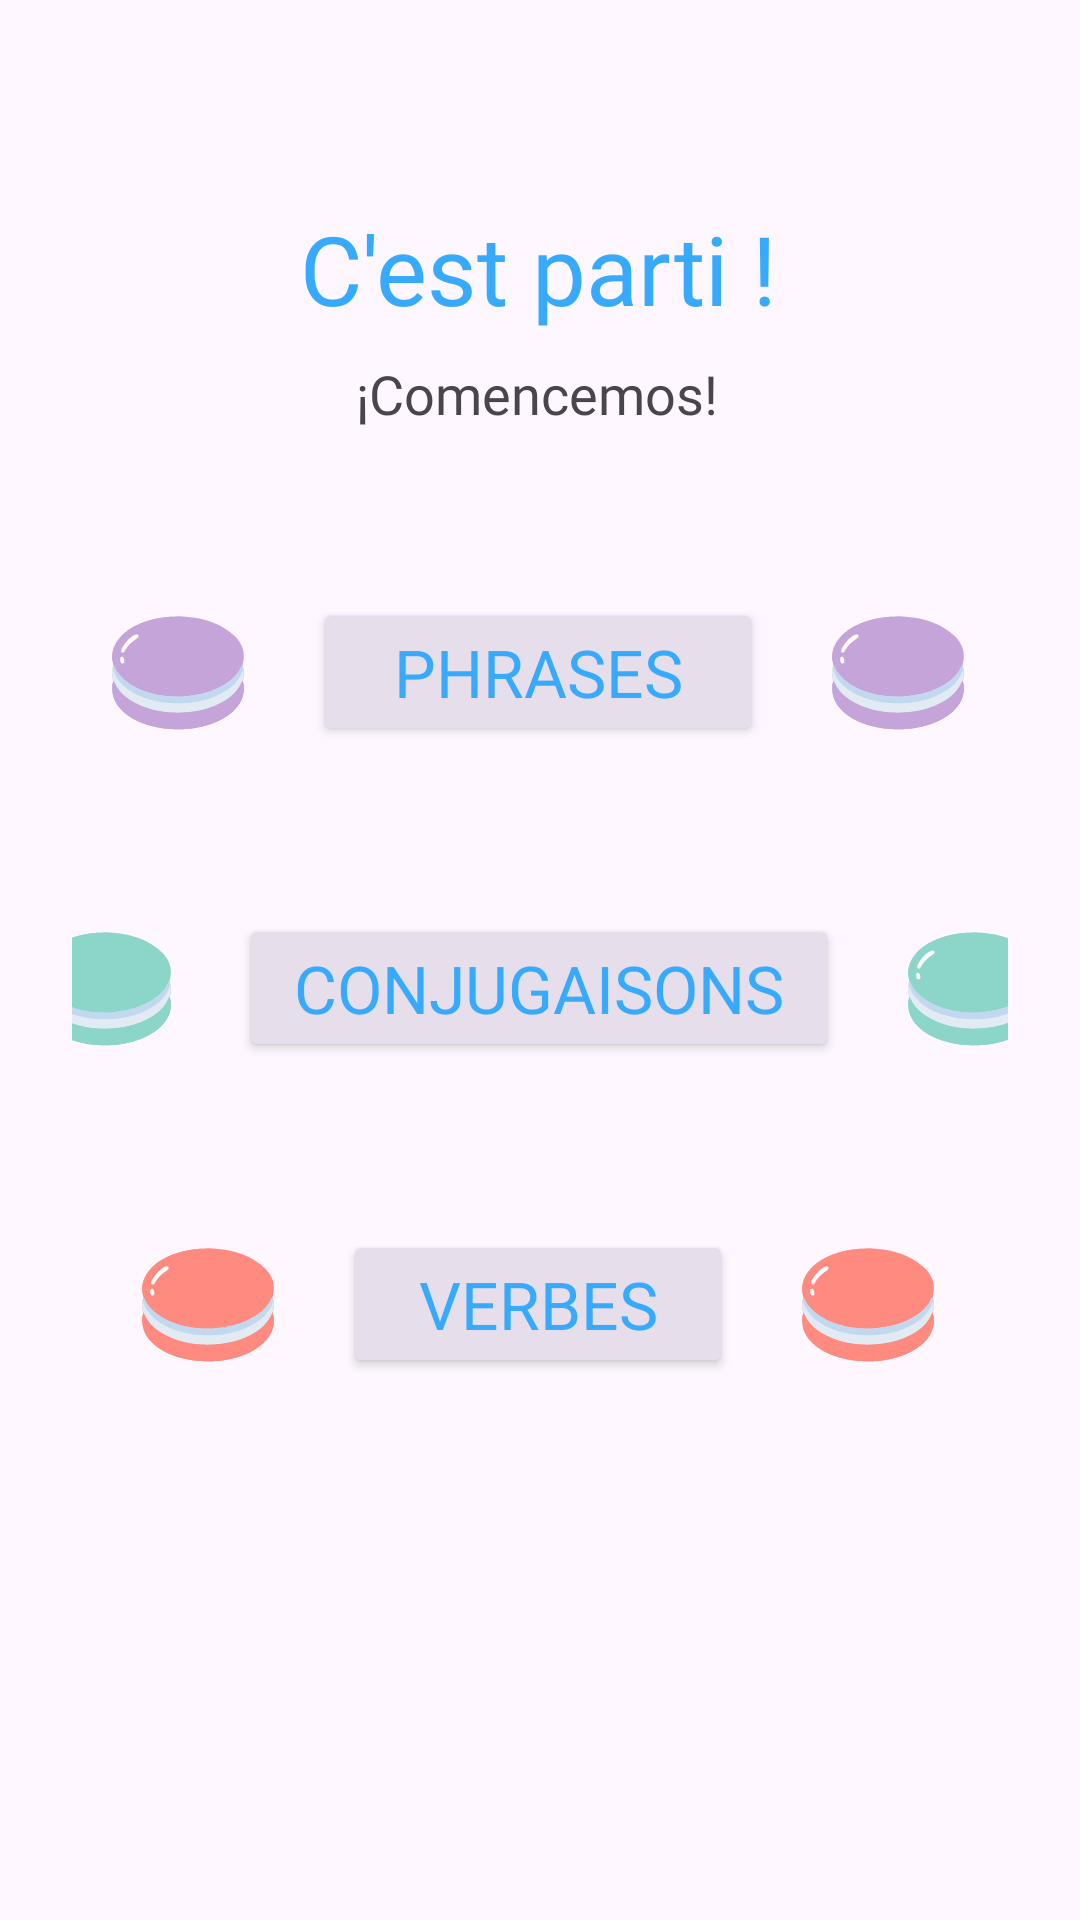

Locate icon controls on the screen. Image size 1080 x 1920, boxes as (x1, y1, x2, y2).
macaron ff: (142, 1248, 274, 1362), (802, 1248, 934, 1362)
